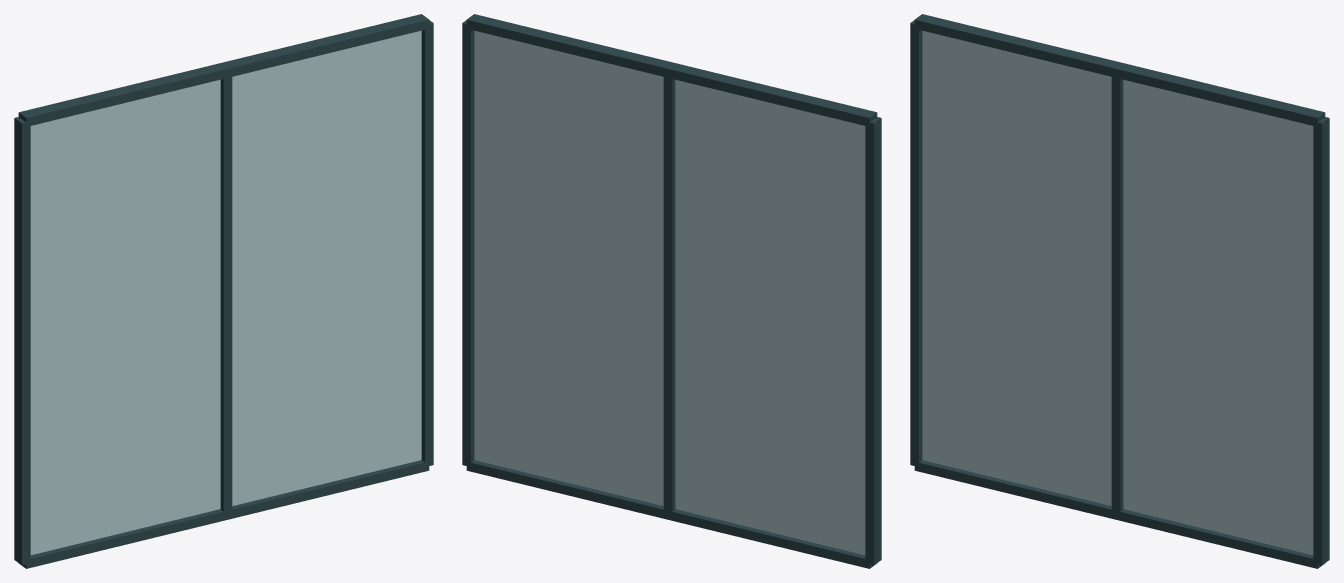
File: balcony_sliding_door.glb
3 renders of one model, left to right at view 1: azimuth 30°, elevation 25°; view 2: azimuth 150°, elevation 25°; view 3: azimuth 330°, elevation 25°, orthographic.
Visible parts, largest first — view 1: glass, frame-vertical (×3), frame-horizontal (×2); view 2: glass, frame-vertical (×3), frame-horizontal (×2); view 3: glass, frame-vertical (×3), frame-horizontal (×2).
Part boxes in pixels (<box>): glass: <box>30,30,421,555</box>; frame-vertical (×3): <box>14,20,433,565</box>; frame-horizontal (×2): <box>18,14,429,568</box>; glass: <box>474,30,865,555</box>; frame-vertical (×3): <box>462,20,881,565</box>; frame-horizontal (×2): <box>466,14,877,568</box>; glass: <box>922,30,1313,555</box>; frame-vertical (×3): <box>910,20,1329,565</box>; frame-horizontal (×2): <box>914,14,1325,568</box>.
Bounding box in the file's own units: 2.15 × 2.25 × 0.07.
